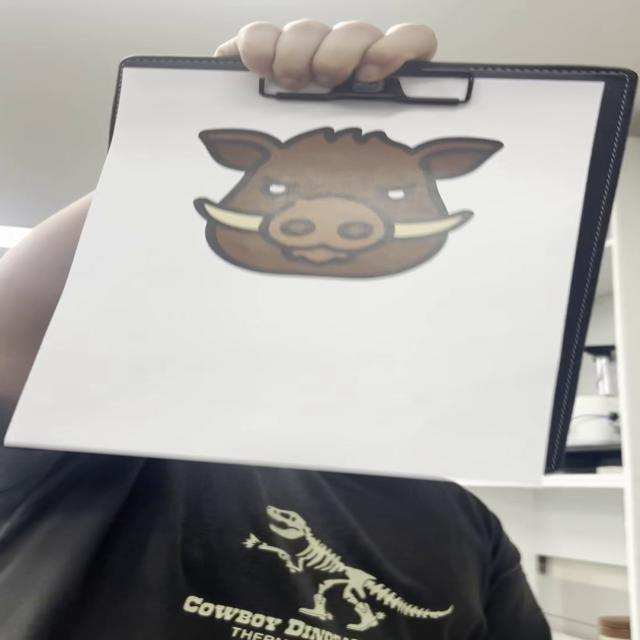animal: (189, 122, 513, 285)
